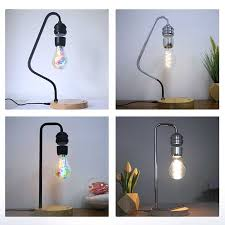bulb: (51, 147, 83, 184), (166, 150, 191, 191), (157, 41, 184, 76), (51, 39, 73, 75)
